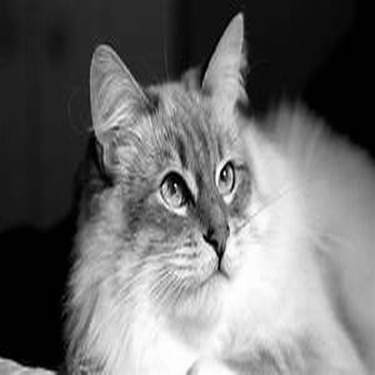cat: (63, 9, 369, 369)
